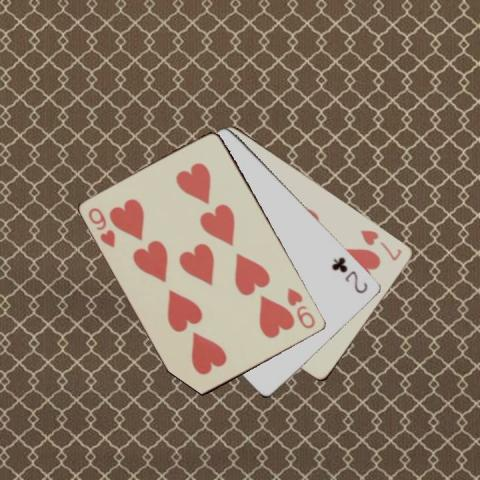2c: (329, 254, 370, 295)
7h: (357, 227, 404, 262)
9h: (284, 284, 317, 330), (86, 205, 118, 249)
